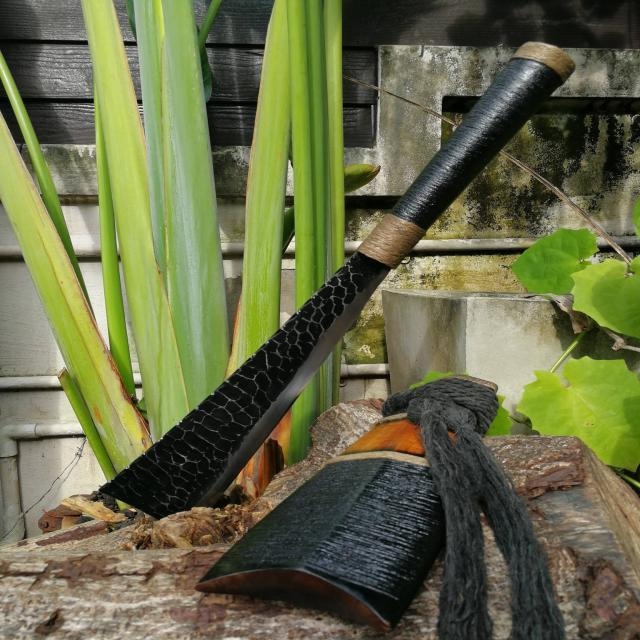eto: (85, 29, 587, 556)
